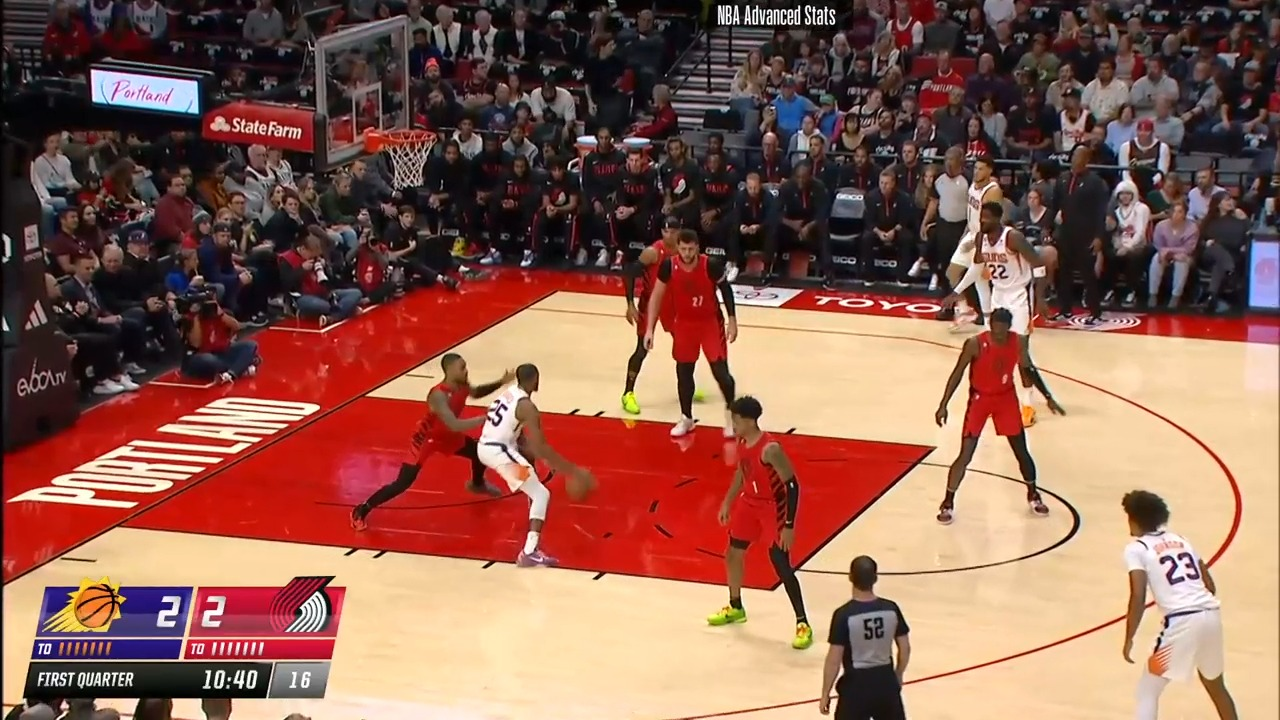net: (359, 121, 439, 193)
player: (1107, 487, 1247, 720), (360, 354, 519, 539), (934, 300, 1063, 528), (701, 393, 806, 650), (946, 199, 1046, 427), (480, 363, 585, 573), (642, 227, 740, 448), (623, 222, 684, 430)
referee: (821, 555, 922, 720), (925, 162, 994, 334)
